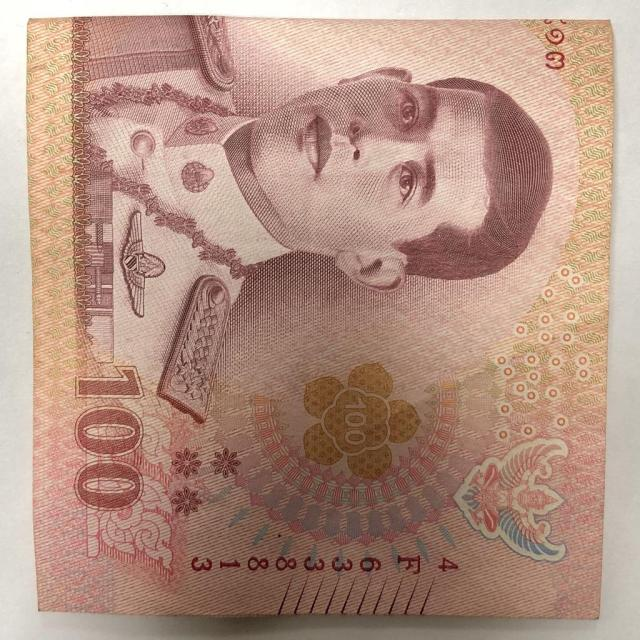THAI100: (27, 15, 612, 618)
